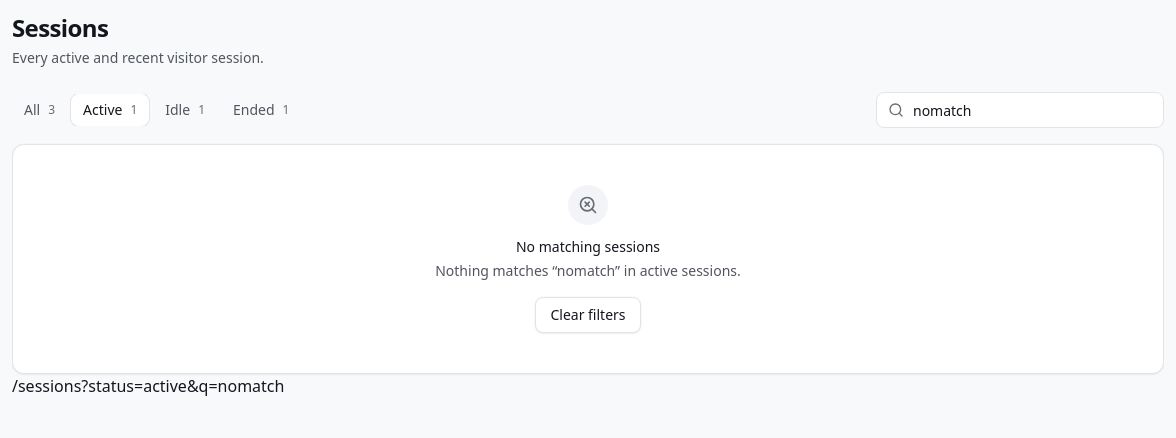
Test case: SessionsPage › explains an empty result and offers a way out
Expected: the text "No matching sessions" is shown, [516,237,660,257]
What coordinates should you click on to do the following:
click the link "Clear filters"
I would click on:
 (588, 315)
Its box is [535,297,640,333].
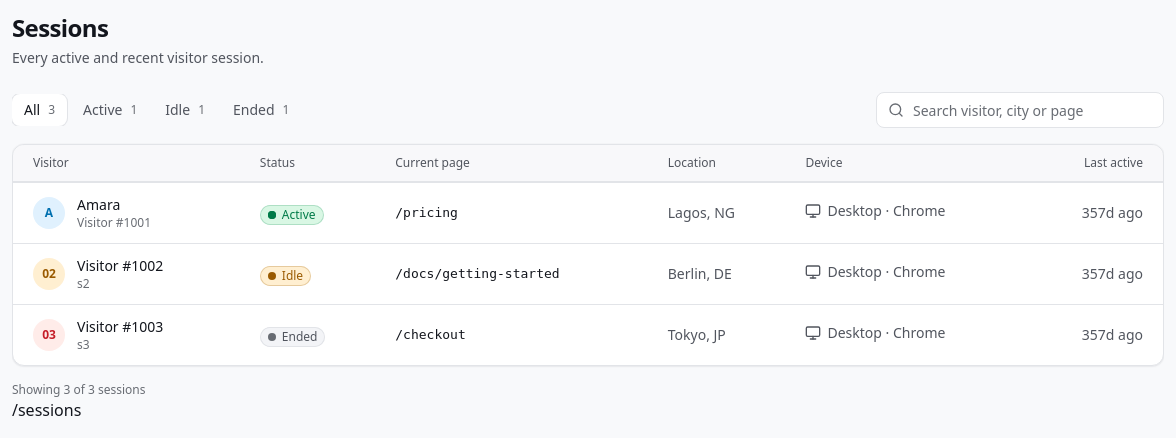
Expected: the text with test id "location" reads "/sessions", [12,399,81,421]
